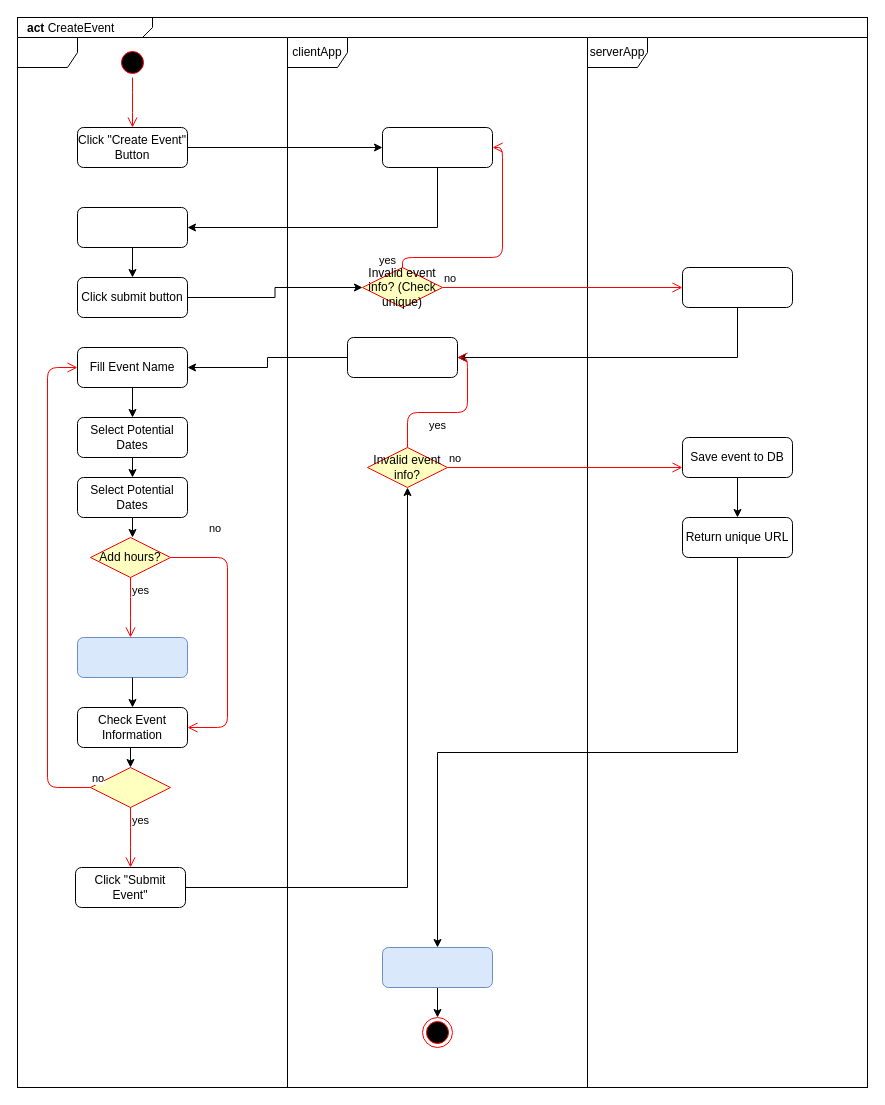
Some shapes in this 885 by 1105 pixel diagram are drawn without their labels. Here are the shapes that lost their labels. From the top down, the box of each, then its label:
(382, 126, 492, 168): Change view to "New ID Event'" view
(76, 206, 188, 248): Fill "New ID Event" with eventname and password
(682, 266, 792, 308): Save ID event to DB
(346, 336, 458, 378): Change view to "Details Event" view
(16, 36, 288, 1088): user
(76, 636, 188, 678): Select Open Hours
(90, 766, 170, 808): Correct information?
(382, 946, 492, 988): Change view to "Share/Details Event" view
